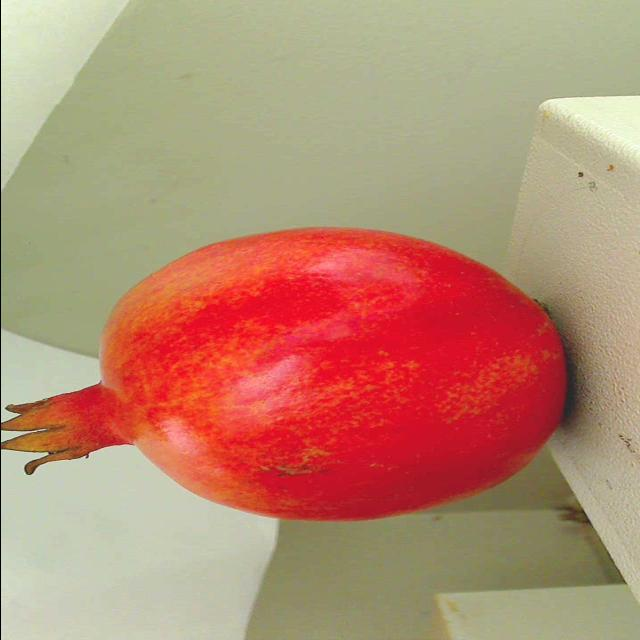pomegranate: (0, 221, 580, 541)
